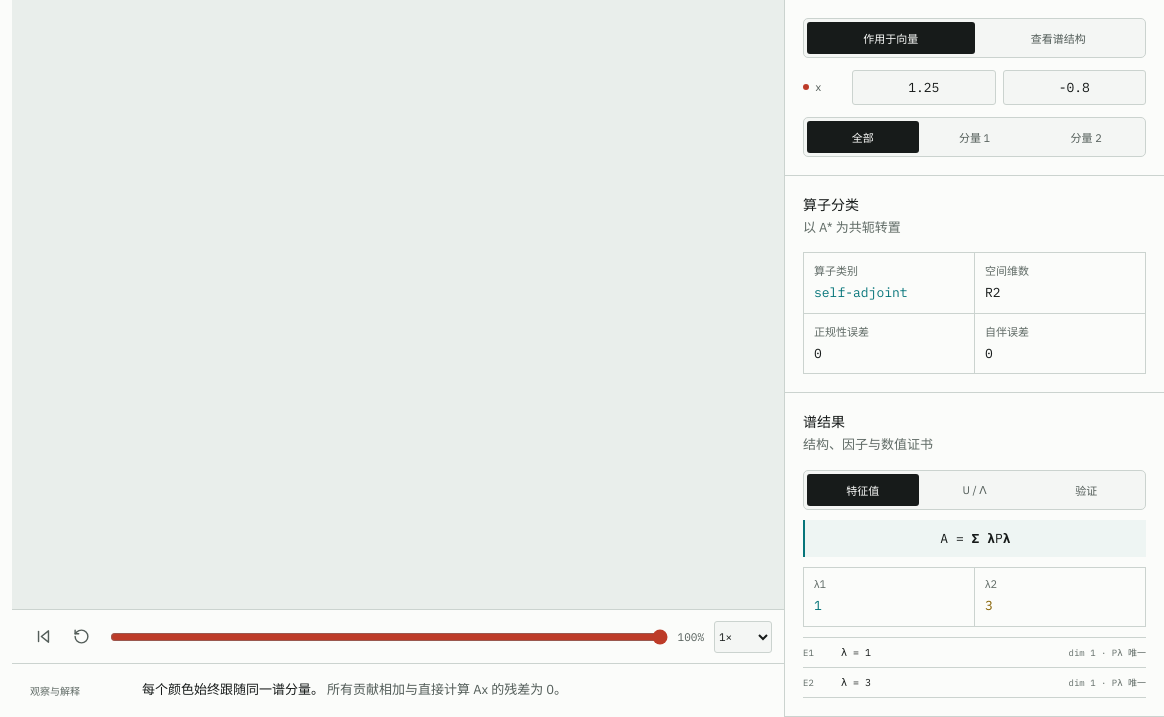
Test case: OperatorScene teaching workflow › uses read-only math factors instead of disabled matrix inputs
(page scrolled)
What coordinates should you click on to do the following:
click the radio button labelled "U / Λ"
I would click on:
 (975, 490)
Its box is [919,474,1030,506].
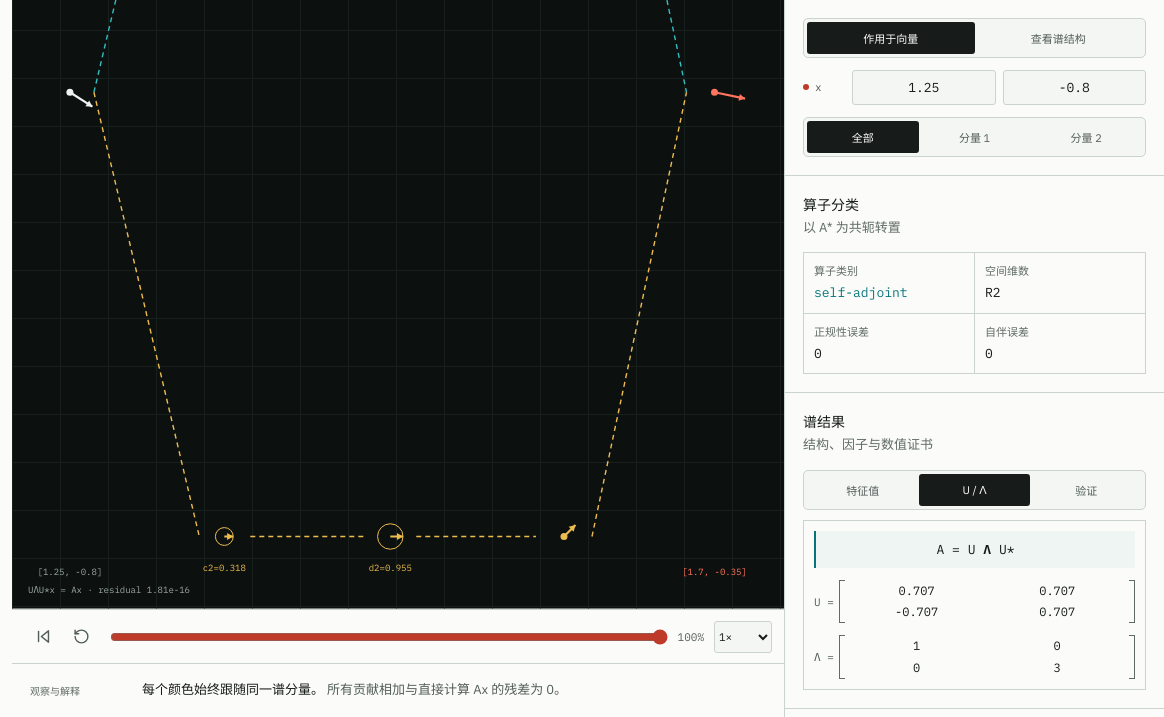
Result: the element named "酉特征基矩阵" is shown at [814,580,1135,624]
Result: the element named "特征值对角矩阵" is shown at [814,635,1135,679]
Result: the number of cells with test id "operator-u-cell" is 4 at [899,583,935,598]; [1039,583,1075,598]; [895,604,938,619]; [1039,604,1075,619]
